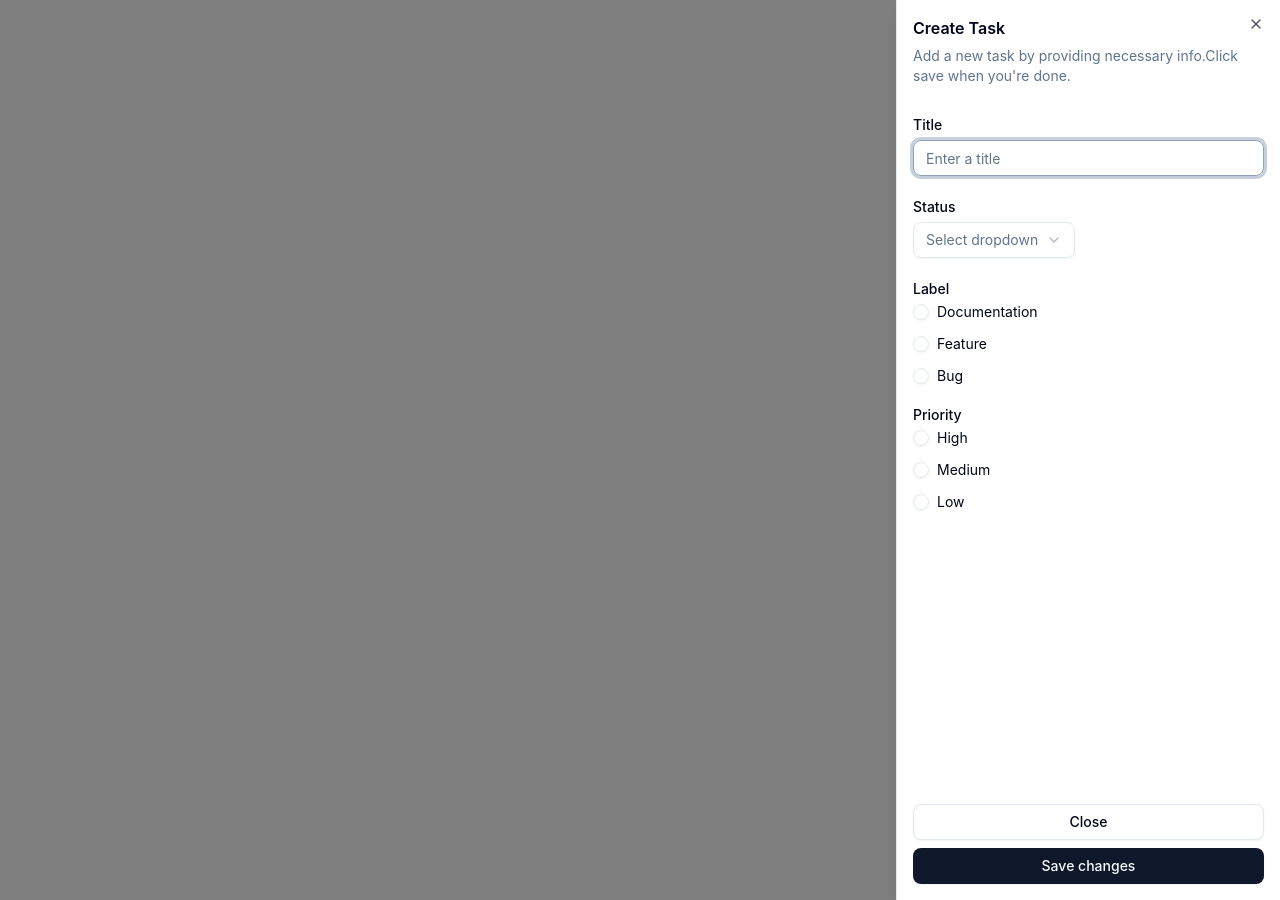
Scenario: TasksMutateDrawer › shows validation messages when submitting an empty form
Click the button "Save changes". click: coordinates (1088, 866)
box: x1=913 y1=848 x2=1264 y2=884
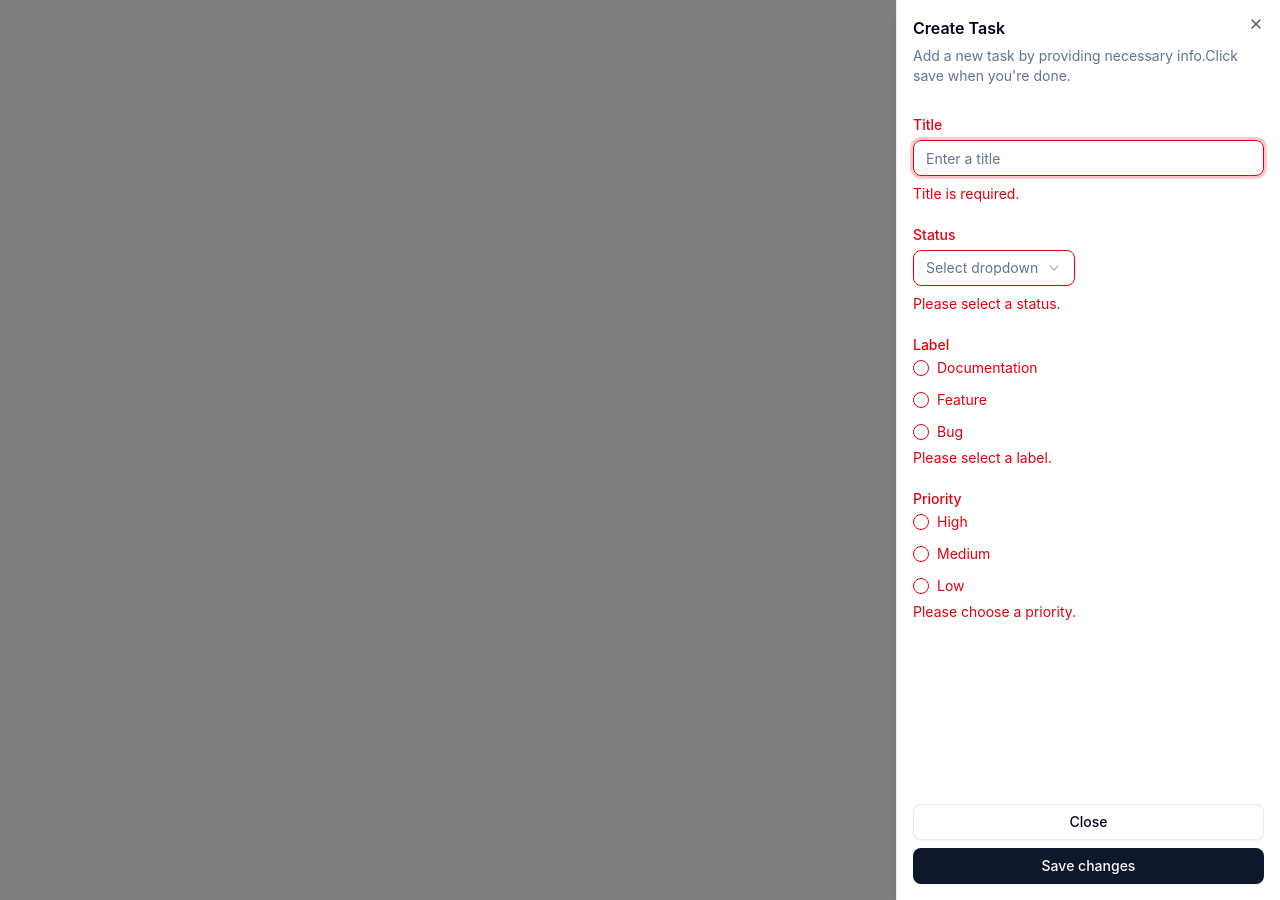
Expected: the text "Title is required." is shown, x1=913 y1=185 x2=1020 y2=202
Expected: the text "Please select a status." is shown, x1=913 y1=295 x2=1061 y2=312
Expected: the text "Please select a label." is shown, x1=913 y1=449 x2=1052 y2=466
